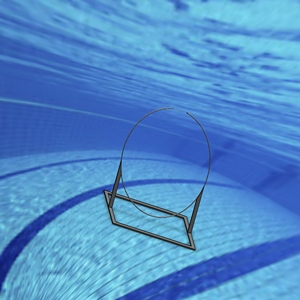circle: (104, 105, 212, 251)
